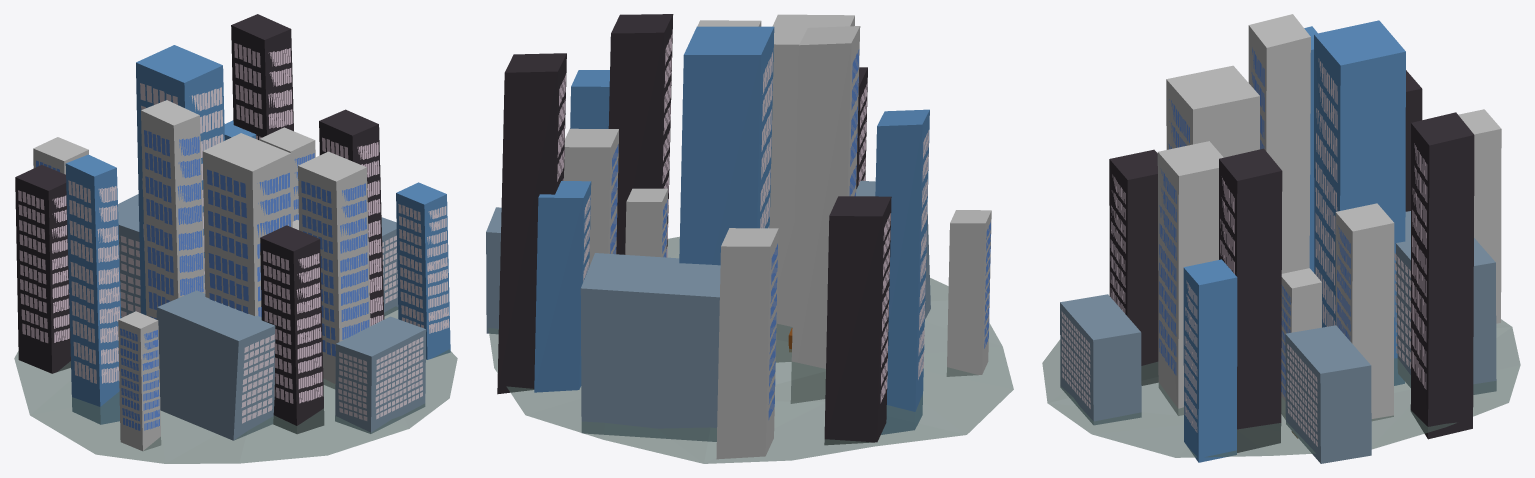
File: city_european_2.glb
3 renders of one model, left to right at view 1: azimuth 30°, elevation 25°; view 2: azimuth 150°, elevation 25°; view 3: azimuth 270°, elevation 25°, orthographic. The views are drawn at different scales.
Parts seen in each view (by area): view 1: Grass, Plane.005, Plane.004, Plane.014, Plane.006, Plane.001, Plane.007, Plane.013, Plane.000, Plane.002, Plane.008, Plane.017 (+6 smaller); view 2: Plane.402, Grass, Plane.008, Plane.006, Plane.017, Plane.013, Plane.016, Plane.004, Plane.012, Plane.015, Plane.014, Plane.009 (+6 smaller); view 3: Plane.017, Plane.008, Plane.012, Grass, Plane.006, Plane.001, Plane.002, Plane.011, Plane.003, Plane.007, Plane.000, Plane.014 (+5 smaller).
Boxes of the visible parts, x1,y1,x2,y2 form: Grass: [14, 306, 457, 463]; Plane.005: [156, 290, 275, 440]; Plane.004: [65, 154, 121, 424]; Plane.014: [202, 133, 292, 317]; Plane.006: [141, 100, 204, 319]; Plane.001: [298, 151, 370, 388]; Plane.007: [260, 225, 323, 433]; Plane.013: [15, 165, 70, 373]; Plane.000: [335, 316, 426, 433]; Plane.002: [396, 182, 450, 359]; Plane.008: [136, 45, 224, 315]; Plane.017: [231, 14, 293, 140]; Plane.402: [580, 253, 720, 441]; Grass: [488, 236, 1013, 463]; Plane.008: [679, 26, 774, 265]; Plane.006: [791, 26, 860, 403]; Plane.017: [497, 53, 566, 394]; Plane.013: [824, 196, 891, 444]; Plane.016: [716, 228, 778, 459]; Plane.004: [875, 109, 929, 434]; Plane.012: [608, 14, 673, 257]; Plane.015: [534, 181, 591, 392]; Plane.014: [769, 14, 854, 362]; Plane.009: [947, 210, 991, 376]; Plane.017: [1410, 112, 1474, 439]; Plane.008: [1314, 20, 1405, 385]; Plane.012: [1219, 148, 1282, 452]; Grass: [1042, 319, 1520, 457]; Plane.006: [1248, 14, 1310, 273]; Plane.001: [1157, 141, 1223, 415]; Plane.002: [1183, 259, 1237, 462]; Plane.011: [1285, 325, 1371, 463]; Plane.003: [1335, 203, 1394, 420]; Plane.007: [1109, 149, 1158, 385]; Plane.000: [1060, 294, 1141, 424]; Plane.014: [1166, 65, 1259, 157].
Bounding box in the file's own units: 4.73 × 3.76 × 4.69.
